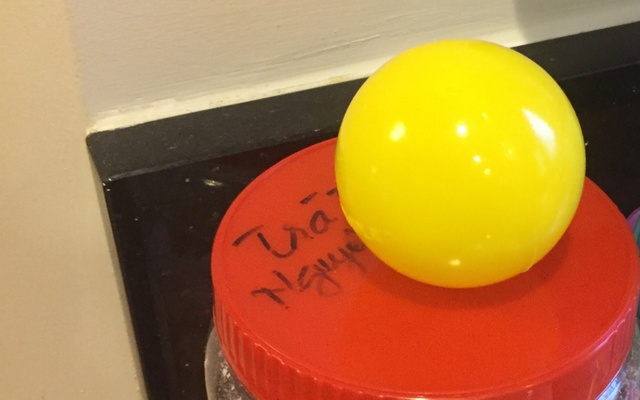ball: (339, 37, 590, 287)
